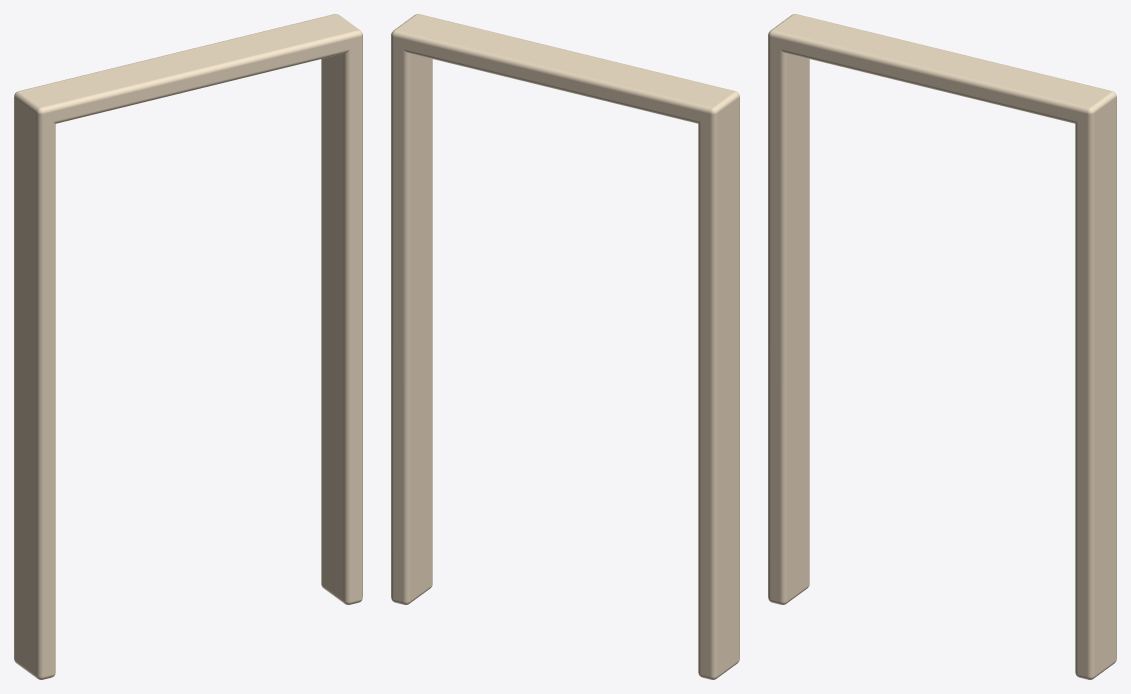
The model's file is door-frame.glb.
3 renders of one model, left to right at view 1: azimuth 30°, elevation 25°; view 2: azimuth 150°, elevation 25°; view 3: azimuth 330°, elevation 25°, orthographic.
Parts seen in each view (by area): view 1: frame-left, frame-right, frame-top; view 2: frame-left, frame-right, frame-top; view 3: frame-right, frame-left, frame-top.
Part boxes in pixels (x1,y1,x2,y2): frame-left: (14,89,55,679); frame-right: (321,14,362,604); frame-top: (14,14,362,124); frame-left: (698,89,739,679); frame-right: (391,30,432,604); frame-top: (391,14,739,123); frame-right: (1075,89,1116,679); frame-left: (768,30,809,604); frame-top: (768,14,1116,123).
Bounding box in the file's own units: 1.4 × 2.35 × 0.2.
